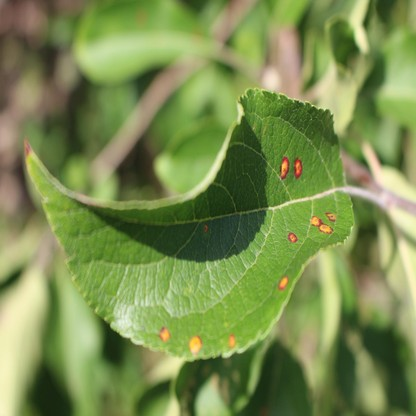rust: (311, 215, 333, 233), (190, 333, 202, 355), (158, 326, 170, 342), (295, 156, 302, 176), (282, 156, 288, 179), (279, 275, 289, 288), (228, 334, 236, 350), (326, 212, 336, 222), (288, 232, 296, 243), (202, 222, 208, 234)
